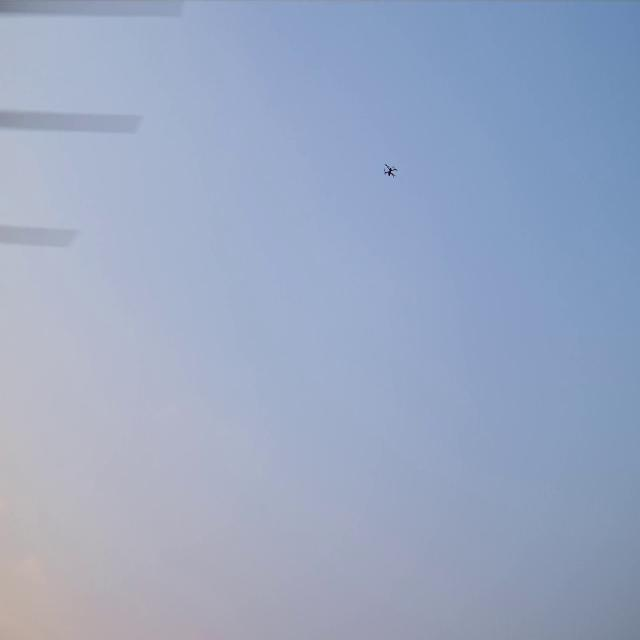UAV: (384, 164, 396, 176)
